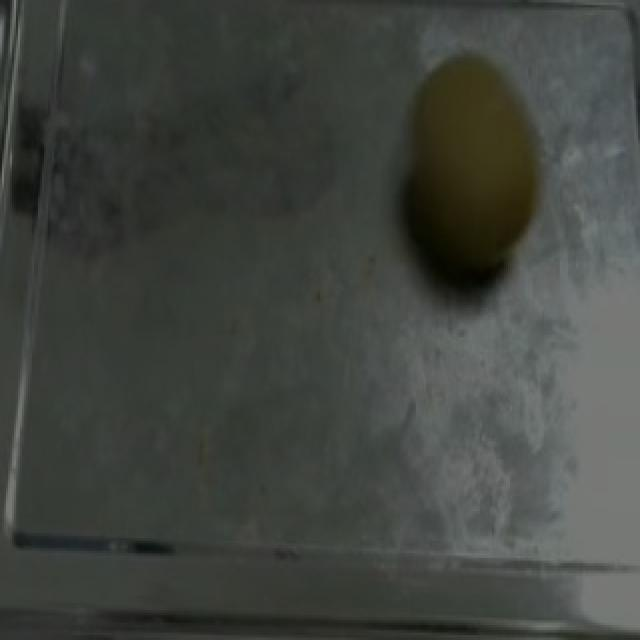Fruit: (382, 50, 558, 302)
